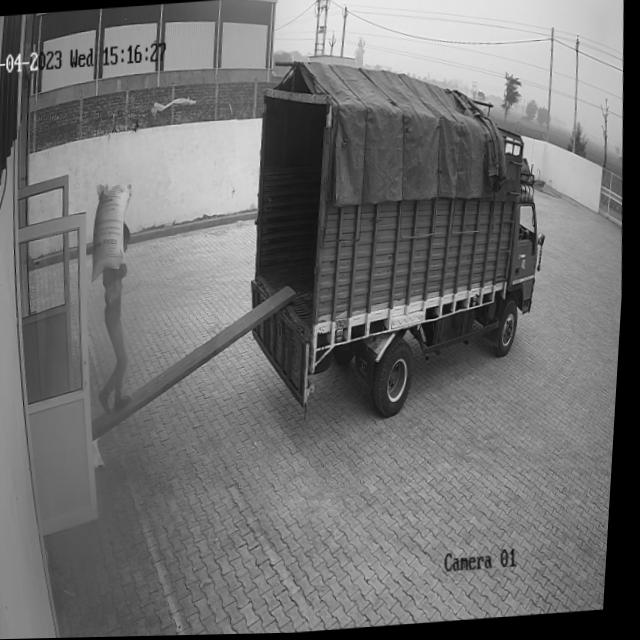sack: (89, 181, 140, 284)
